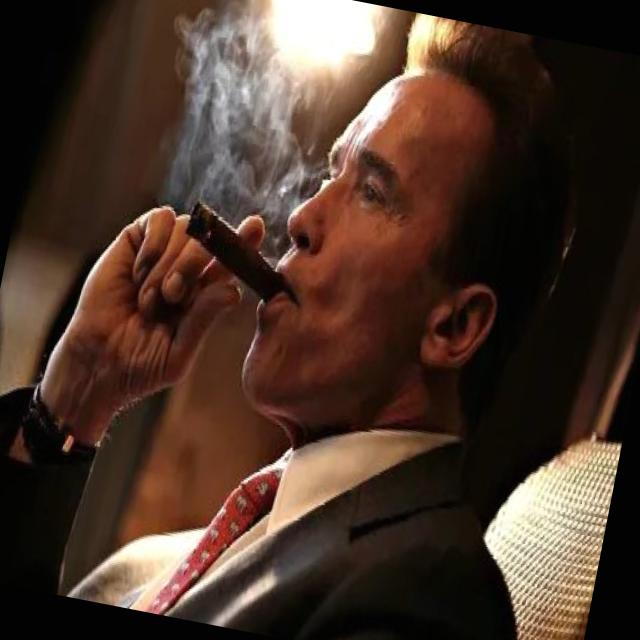cigarette: (172, 193, 296, 316)
